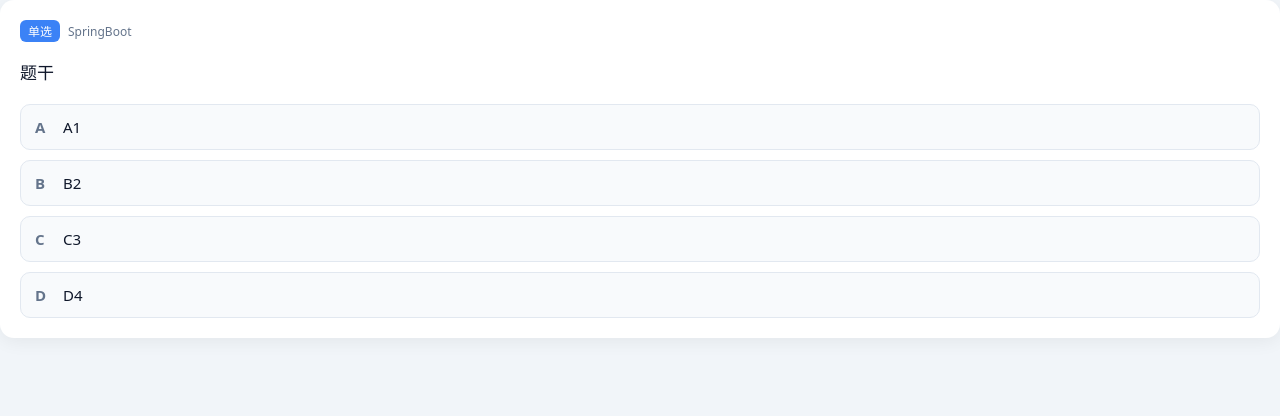
it: QuestionCard 即时判分 › 单选答错后显示正确答案
Step 1. Click the button with class "option" showing "A A1" → click(40, 127), box [20,104,1260,150]
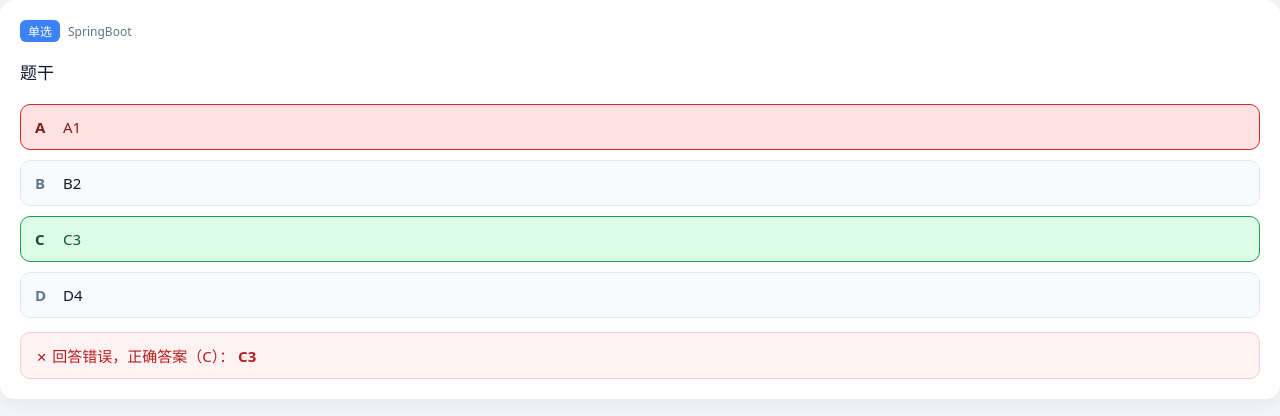
expect the element with class "feedback" shows "C3": met, box [238,346,256,366]
